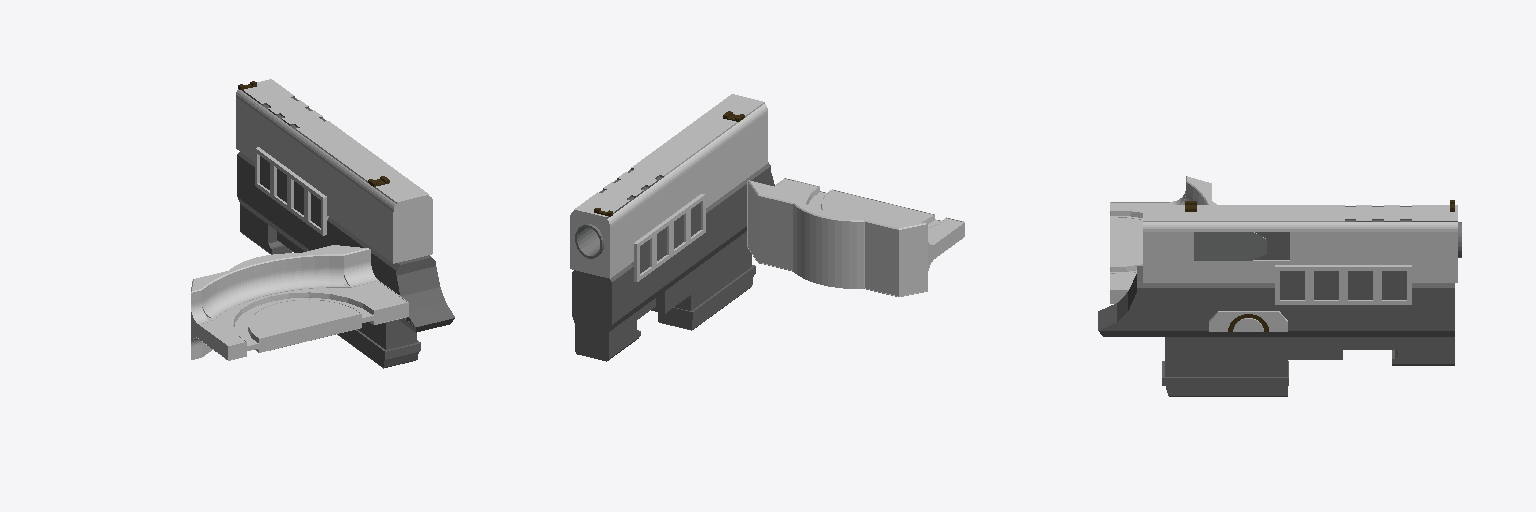
Rendered from 14mm_pistol.obj.
The picture shows the model from 3 angles: view 1: azimuth 30°, elevation 25°; view 2: azimuth 150°, elevation 25°; view 3: azimuth 270°, elevation 25°; orthographic projection.
Size of the model in its own units: 6.65 by 5.08 by 9.31.